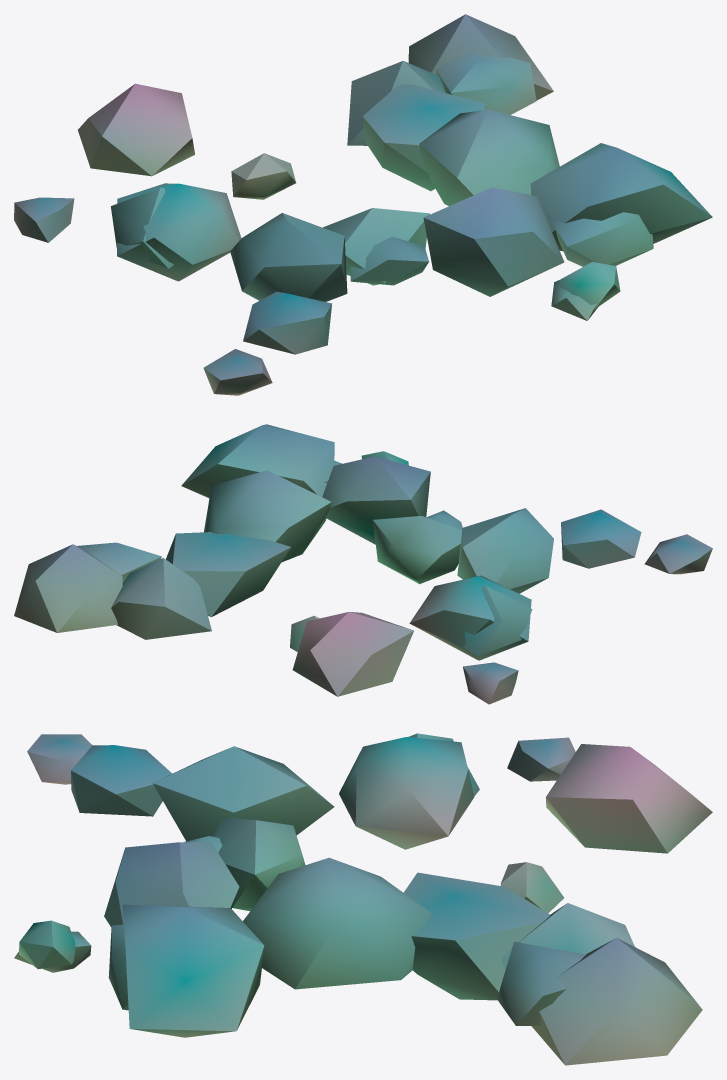
File: rubble_l.glb
3 renders of one model, top to bottom at view 1: azimuth 30°, elevation 25°; view 2: azimuth 150°, elevation 25°; view 3: azimuth 270°, elevation 25°, orthographic. The views are drawn at different scales.
Parts seen in each view (by area): view 1: rubble_l; view 2: rubble_l; view 3: rubble_l.
Boxes of the visible parts, x1,y1,x2,y2 form: rubble_l: [14, 14, 712, 395]; rubble_l: [14, 424, 712, 704]; rubble_l: [14, 733, 712, 1065].
Bounding box in the file's own units: 3.97 × 0.8718 × 3.69.
